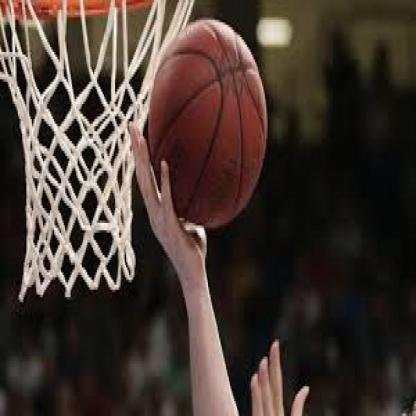basketball: (150, 20, 269, 230)
rim: (0, 0, 156, 20)
